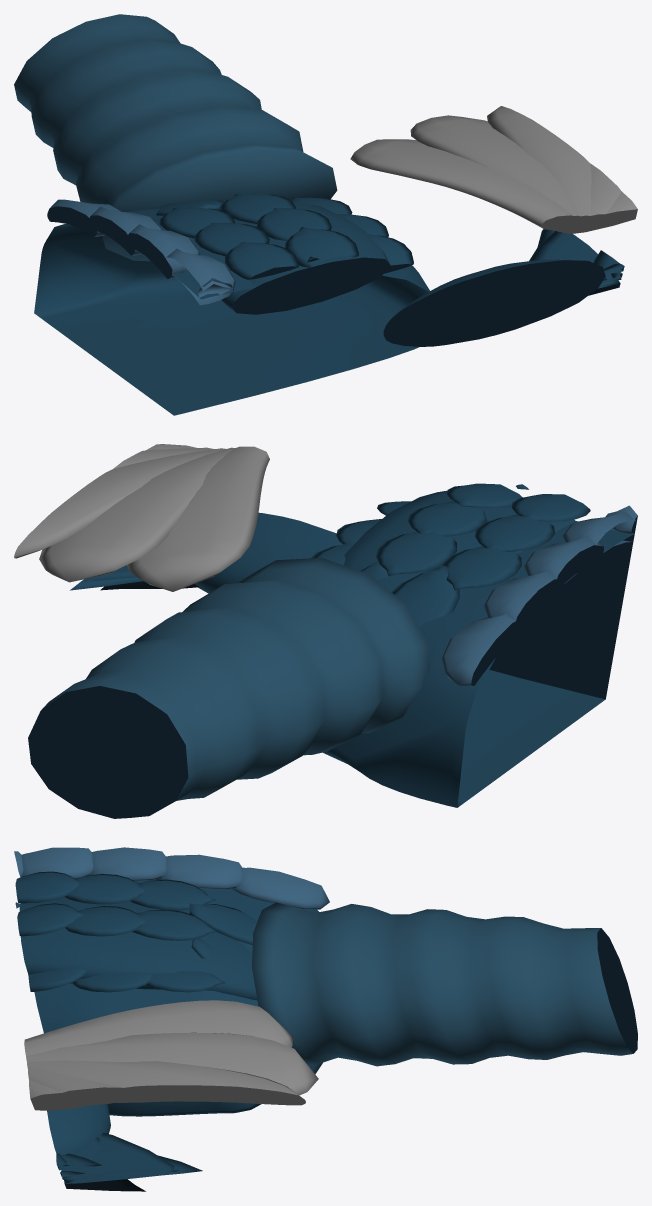
Rendered from gryphon_47.glb.
The picture shows the model from 3 angles, top to bottom: view 1: azimuth 30°, elevation 25°; view 2: azimuth 150°, elevation 25°; view 3: azimuth 270°, elevation 25°; orthographic projection. The views are drawn at different scales.
Visible parts, largest first — view 1: gryphon_47; view 2: gryphon_47; view 3: gryphon_47.
Boxes of the visible parts, x1,y1,x2,y2 form: gryphon_47: [14, 14, 637, 415]; gryphon_47: [14, 444, 637, 818]; gryphon_47: [14, 847, 637, 1191].
Bounding box in the file's own units: 24 × 8.51 × 29.97.
